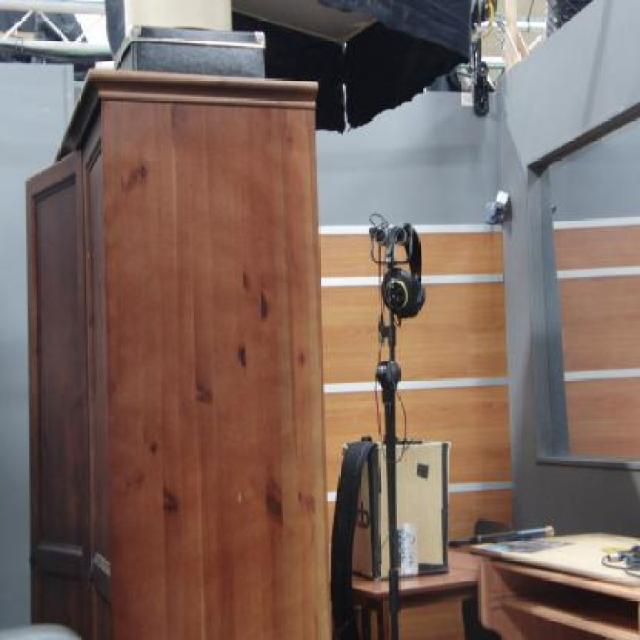earphone: (383, 220, 435, 320)
